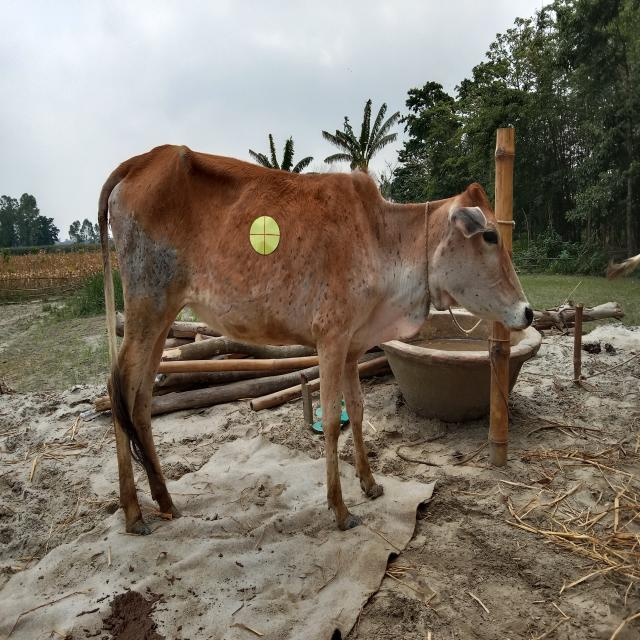badan_sapi: (103, 172, 380, 352)
sapi: (79, 97, 547, 542)
